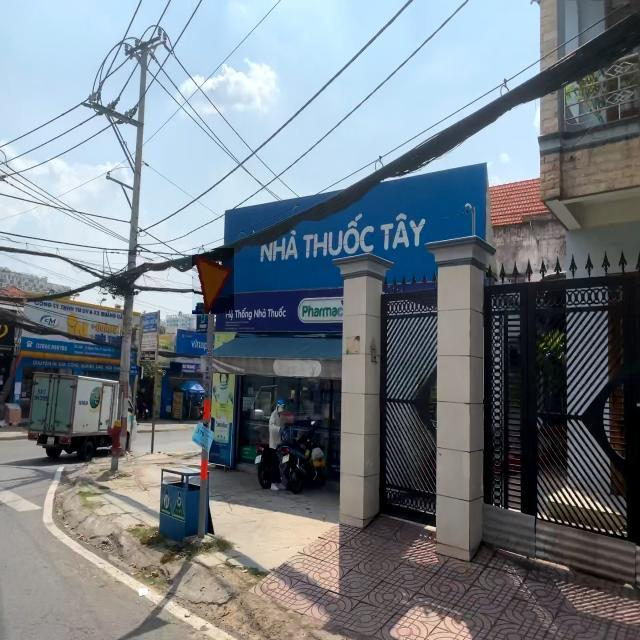W-208: (192, 249, 234, 315)
